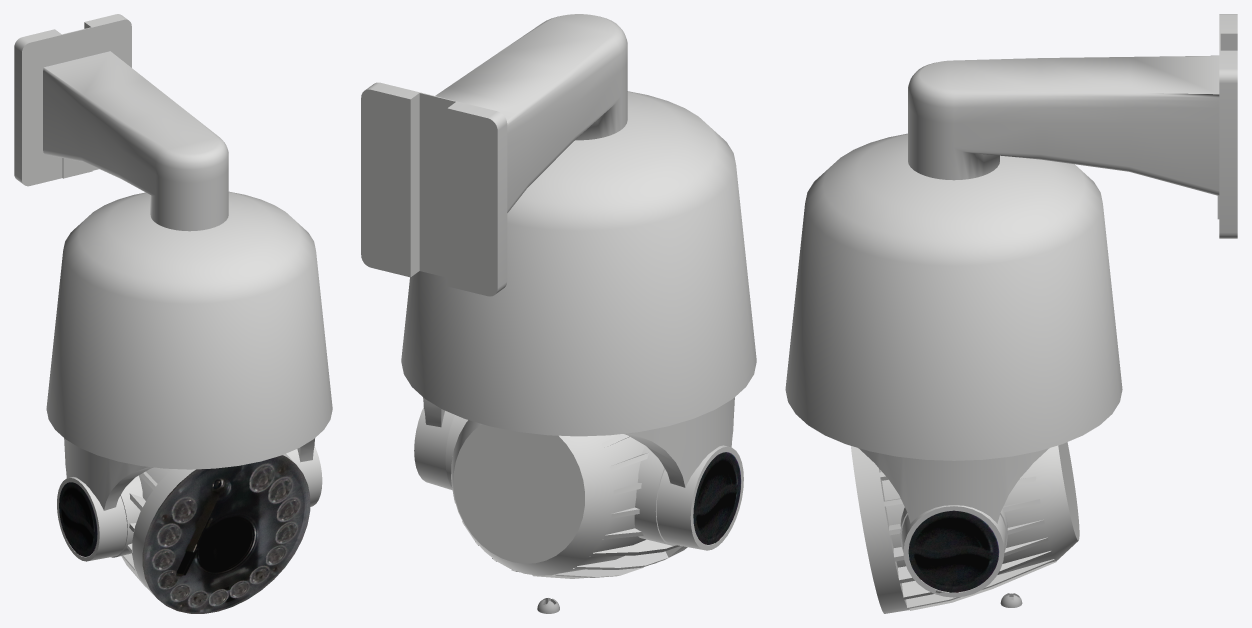
The model's file is qiuji002.FBX.
3 views of the same model, side by side, from view 1: azimuth 30°, elevation 25°; view 2: azimuth 150°, elevation 25°; view 3: azimuth 270°, elevation 25° (orthographic). The views are drawn at different scales.
Parts seen in each view (by area): view 1: qiuji002_body; view 2: qiuji002_body; view 3: qiuji002_body.
Part boxes in pixels (x1=…): qiuji002_body: x1=14, y1=14, x2=332, y2=613; qiuji002_body: x1=361, y1=14, x2=756, y2=578; qiuji002_body: x1=785, y1=14, x2=1237, y2=613.
Size of the model in its own units: 20.14 by 37.02 by 27.01.
